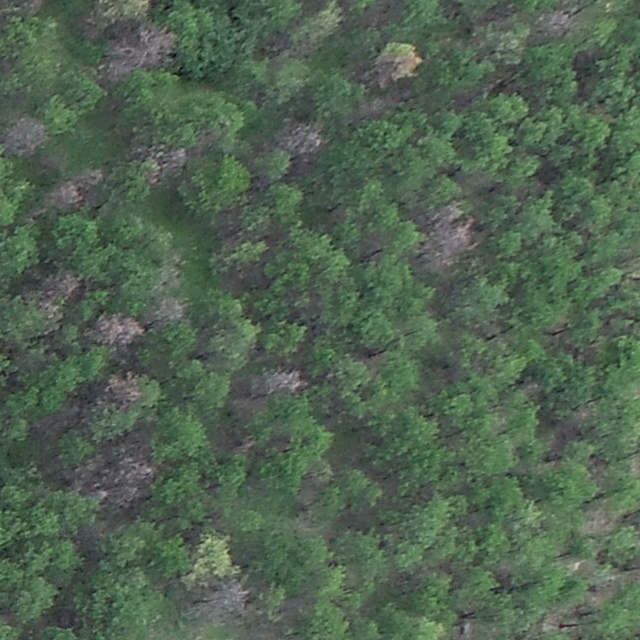unhealthy: (417, 203, 478, 273), (194, 576, 254, 623), (106, 454, 153, 509), (365, 43, 422, 85), (276, 116, 328, 159), (99, 31, 140, 85), (87, 312, 144, 347), (3, 115, 49, 156), (135, 24, 176, 69), (142, 143, 189, 181), (42, 177, 86, 211), (535, 6, 580, 38), (40, 268, 83, 300), (104, 371, 143, 405), (94, 0, 150, 23), (149, 295, 191, 325), (266, 366, 308, 394), (73, 165, 107, 191), (356, 93, 391, 118), (15, 0, 48, 15)
